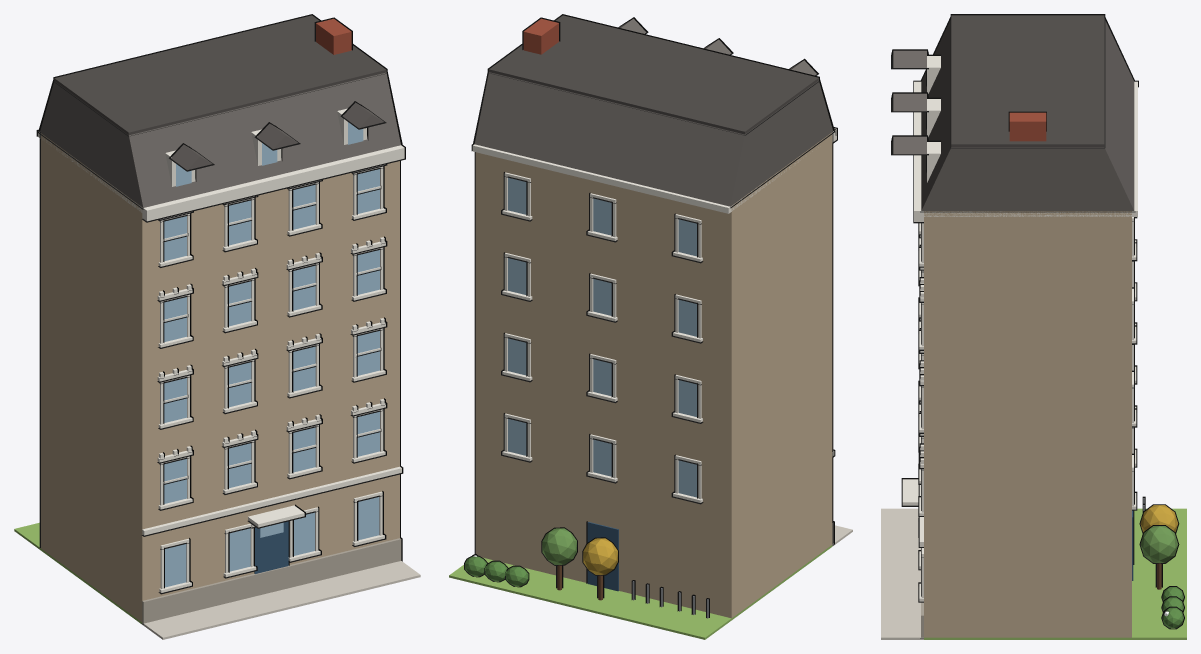
The model's file is Blok_duz_5k_3.fbx.
The picture shows the model from 3 angles, left to right: view 1: azimuth 30°, elevation 25°; view 2: azimuth 150°, elevation 25°; view 3: azimuth 270°, elevation 25°; orthographic projection. The views are drawn at different scales.
Visible parts, largest first — view 1: Blok_duz_5k_3; view 2: Blok_duz_5k_3; view 3: Blok_duz_5k_3.
Boxes of the visible parts, x1,y1,x2,y2 form: Blok_duz_5k_3: (14,14,420,639); Blok_duz_5k_3: (449,14,852,639); Blok_duz_5k_3: (881,14,1186,639).
Bounding box in the file's own units: 10.1 × 18.61 × 10.
